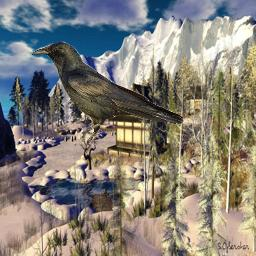Crow: (30, 41, 185, 145)
